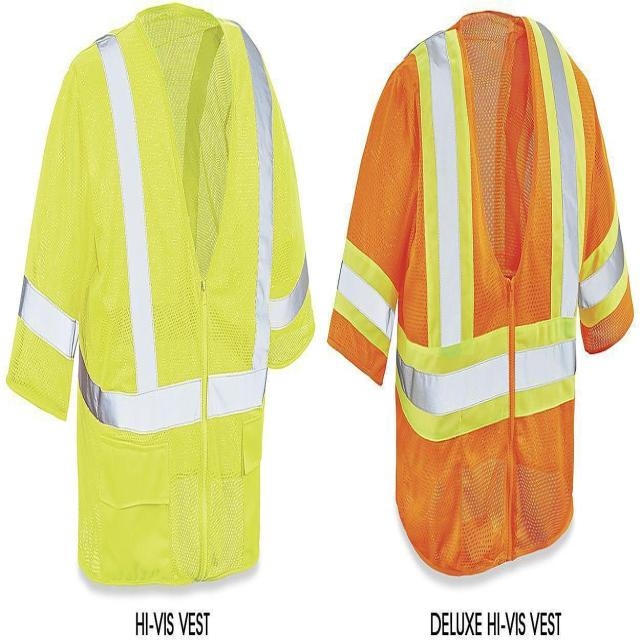Vest: (6, 0, 319, 587), (324, 0, 634, 578)
